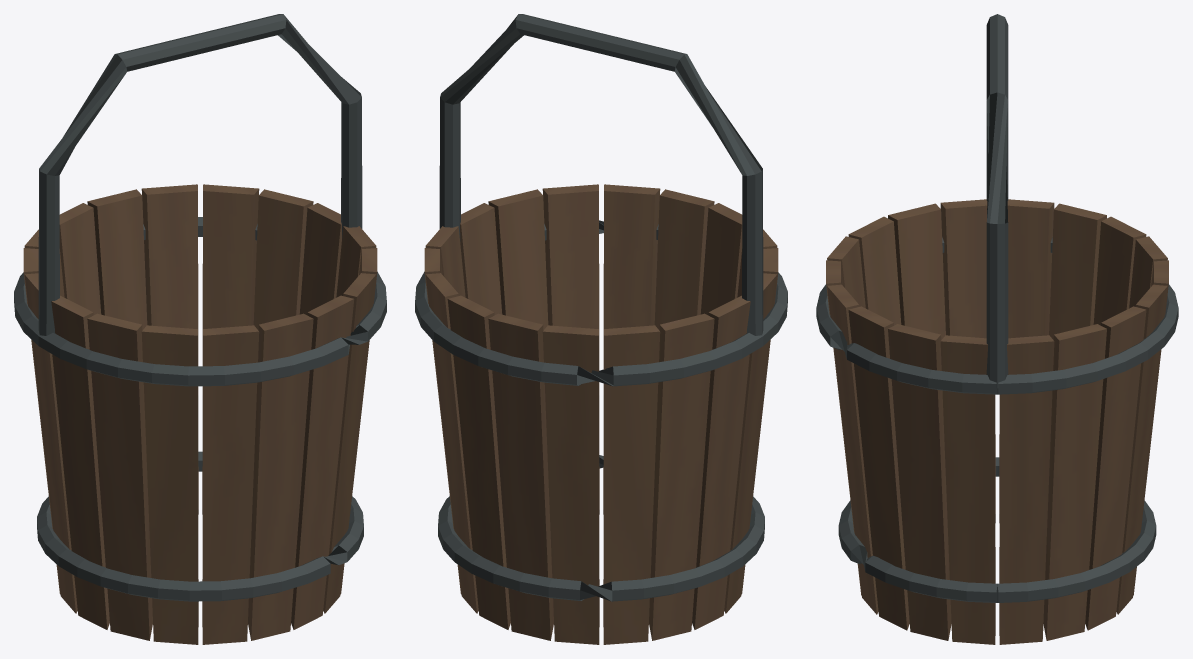
The model's file is PR_WoodBucket.glb.
3 renders of one model, left to right at view 1: azimuth 30°, elevation 25°; view 2: azimuth 150°, elevation 25°; view 3: azimuth 270°, elevation 25°, orthographic. The views are drawn at different scales.
Parts seen in each view (by area): view 1: PR_WoodBucket; view 2: PR_WoodBucket; view 3: PR_WoodBucket.
Part boxes in pixels (x1,y1,x2,y2): PR_WoodBucket: (14, 14, 386, 644); PR_WoodBucket: (415, 14, 787, 644); PR_WoodBucket: (816, 14, 1178, 644).
Bounding box in the file's own units: 0.4067 × 0.6612 × 0.4068.
Materials: 2 (1 with a texture image).
